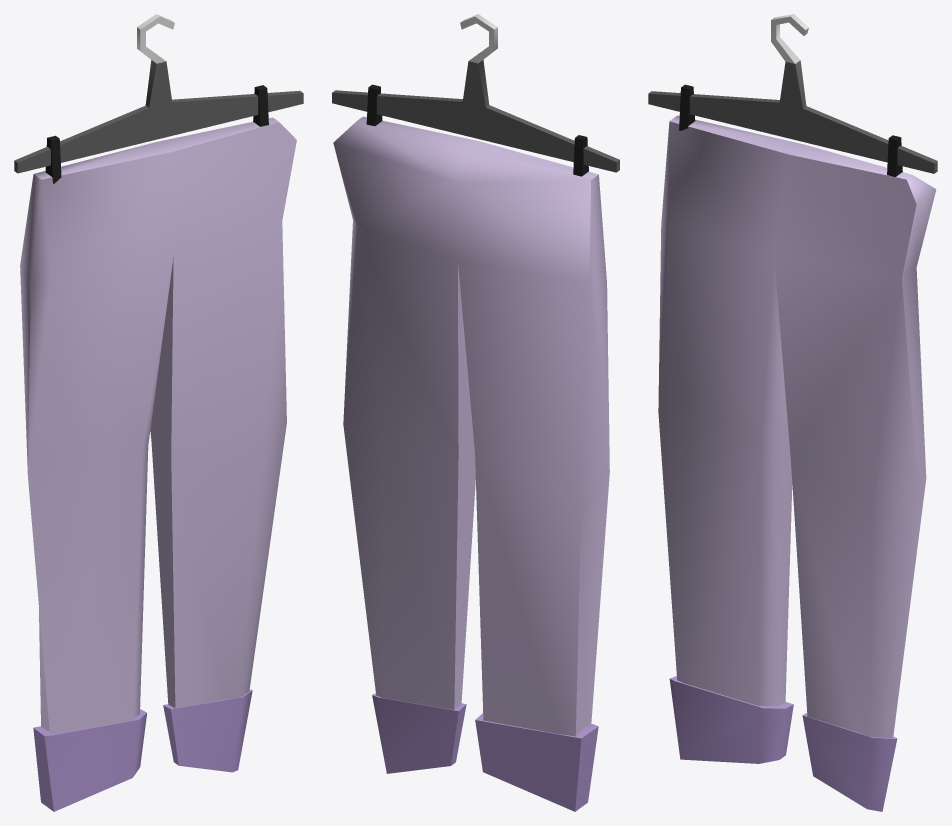
The model's file is clothes_021.glb.
The picture shows the model from 3 angles, left to right: view 1: azimuth 30°, elevation 25°; view 2: azimuth 150°, elevation 25°; view 3: azimuth 330°, elevation 25°; orthographic projection.
Visible parts, largest first — view 1: clothes_021; view 2: clothes_021; view 3: clothes_021.
Boxes of the visible parts, left/top/right/bottom form: clothes_021: left=14, top=14, right=303, bottom=811; clothes_021: left=332, top=14, right=619, bottom=811; clothes_021: left=648, top=14, right=937, bottom=811.
Size of the model in its own units: 0.3759 by 0.9794 by 0.0912.
1 material, 1 textured.
